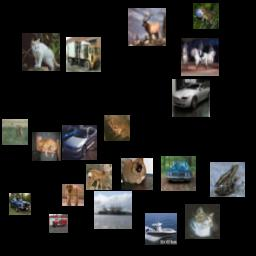automobile: (172, 79, 210, 117), (62, 125, 97, 160), (161, 156, 196, 191), (9, 193, 31, 215)
cat: (22, 33, 60, 71), (185, 204, 220, 239)
deer: (128, 8, 166, 46), (2, 119, 28, 145), (86, 164, 112, 190)
dog: (121, 158, 153, 190), (32, 132, 61, 161), (62, 184, 84, 206)
frog: (210, 162, 245, 197), (193, 3, 219, 29), (104, 115, 130, 141)
ship: (94, 191, 132, 229), (145, 213, 177, 245)
truck: (66, 37, 101, 72), (49, 214, 68, 233)
